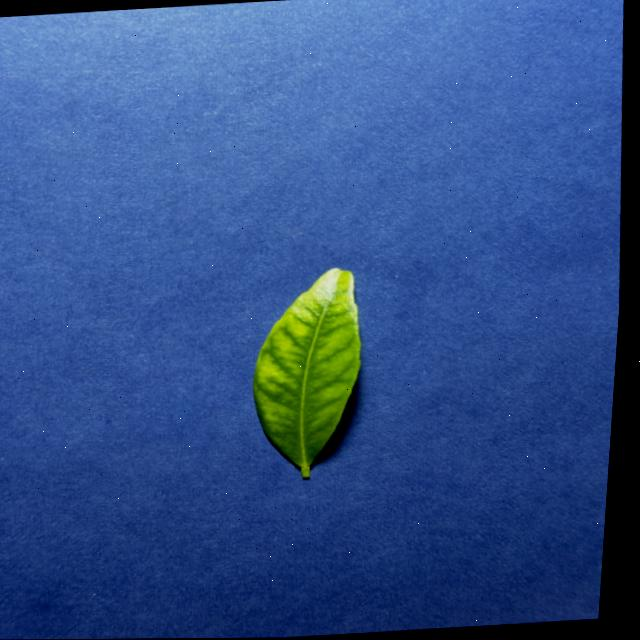greening: (253, 268, 360, 477)
